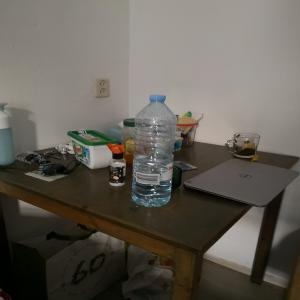Plastic-bottle: (132, 95, 179, 209), (1, 102, 20, 167)
